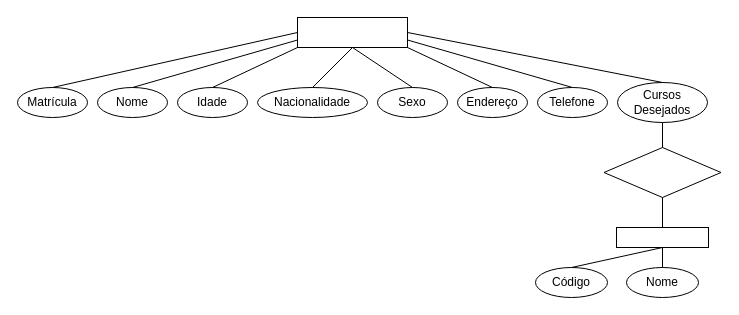
This 739x315 diagram has some shape labels left out. The shapes that lost their labels are listed below. From the top down, each one's box as (x1, y1, x2, y2) in pixels, then its label:
(296, 16, 408, 48): Inscrições
(603, 146, 721, 198): Contém
(616, 226, 708, 248): Curso
